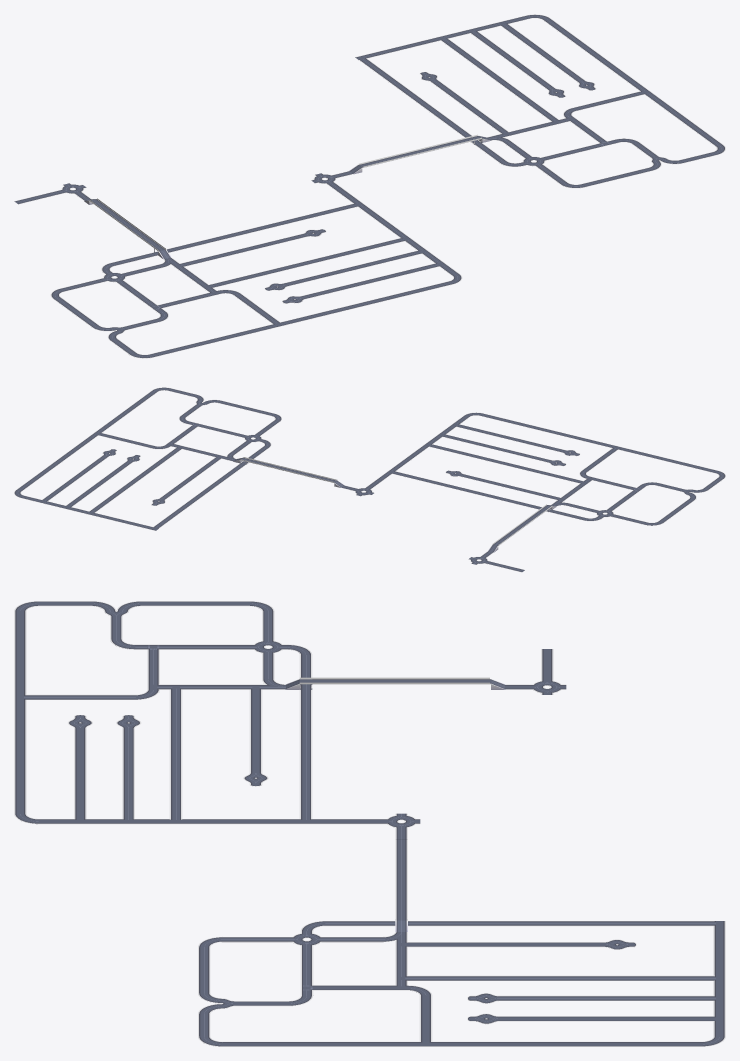
Rendered from CityNewRoadTest.glb.
The picture shows the model from 3 angles, top to bottom: view 1: azimuth 30°, elevation 25°; view 2: azimuth 150°, elevation 25°; view 3: azimuth 270°, elevation 25°; orthographic projection. The views are drawn at different scales.
Parts seen in each view (by area): view 1: road-straight6, road-straight3, road-straight39, road-straight35, road-straight20, road-straight56, road-straight33, road-straight31, road-straight66, road-straight67, road-straight, road-straight19 (+2 smaller); view 2: road-straight6, road-straight3, road-straight35, road-straight39, road-straight20, road-straight56, road-straight31, road-straight33, road-straight66, road-straight67, road-straight19, road-straight (+4 smaller); view 3: road-straight39, road-straight35, road-straight6, road-straight3, road-straight56, road-straight20, road-straight67, road-straight66, road-straight34, road-straight55, road-straight31, road-straight33 (+6 smaller).
Boxes of the visible parts, x1=… form: road-straight6: x1=209, y1=238, x2=404, y2=287; road-straight3: x1=166, y1=203, x2=357, y2=252; road-straight39: x1=440, y1=38, x2=558, y2=121; road-straight35: x1=359, y1=58, x2=472, y2=137; road-straight20: x1=280, y1=281, x2=452, y2=325; road-straight56: x1=543, y1=18, x2=647, y2=91; road-straight33: x1=283, y1=250, x2=421, y2=286; road-straight31: x1=301, y1=263, x2=438, y2=299; road-straight66: x1=501, y1=24, x2=585, y2=82; road-straight67: x1=470, y1=31, x2=555, y2=89; road-straight: x1=180, y1=233, x2=307, y2=266; road-straight19: x1=149, y1=324, x2=276, y2=357; road-straight6: x1=429, y1=444, x2=582, y2=483; road-straight3: x1=392, y1=471, x2=542, y2=509; road-straight35: x1=153, y1=463, x2=245, y2=528; road-straight39: x1=89, y1=447, x2=181, y2=512; road-straight20: x1=480, y1=413, x2=615, y2=448; road-straight56: x1=16, y1=434, x2=98, y2=491; road-straight31: x1=456, y1=424, x2=565, y2=452; road-straight33: x1=443, y1=434, x2=551, y2=462; road-straight66: x1=42, y1=455, x2=108, y2=501; road-straight67: x1=66, y1=461, x2=132, y2=506; road-straight19: x1=618, y1=447, x2=718, y2=473; road-straight: x1=460, y1=474, x2=560, y2=500; road-straight39: x1=407, y1=975, x2=714, y2=980; road-straight35: x1=408, y1=921, x2=713, y2=926; road-straight6: x1=169, y1=689, x2=182, y2=819; road-straight3: x1=299, y1=689, x2=312, y2=818; road-straight56: x1=431, y1=1041, x2=700, y2=1046; road-straight20: x1=14, y1=699, x2=26, y2=813; road-straight67: x1=498, y1=995, x2=713, y2=1000; road-straight66: x1=498, y1=1016, x2=713, y2=1021; road-straight34: x1=407, y1=942, x2=604, y2=947; road-straight55: x1=222, y1=1041, x2=419, y2=1046; road-straight31: x1=74, y1=728, x2=86, y2=818; road-straight33: x1=122, y1=728, x2=134, y2=818.
Size of the model in its own units: 587 by 4.43 by 396.
Materials: 11 (11 with a texture image).
